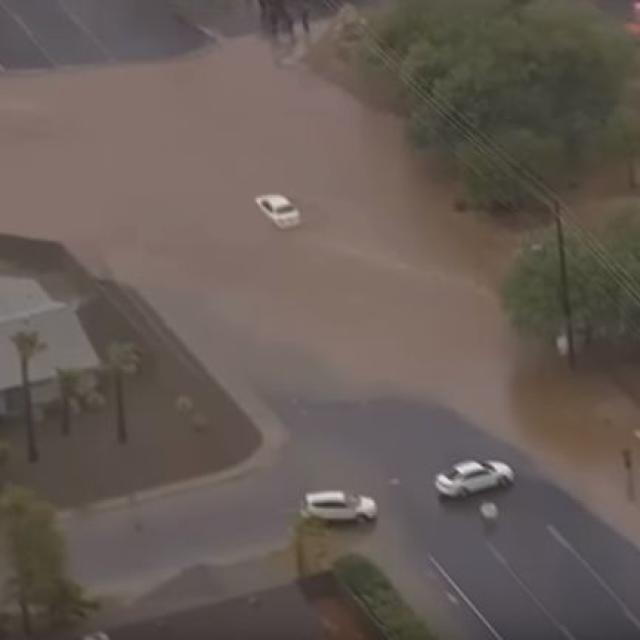flooded_areas: (40, 67, 584, 391)
